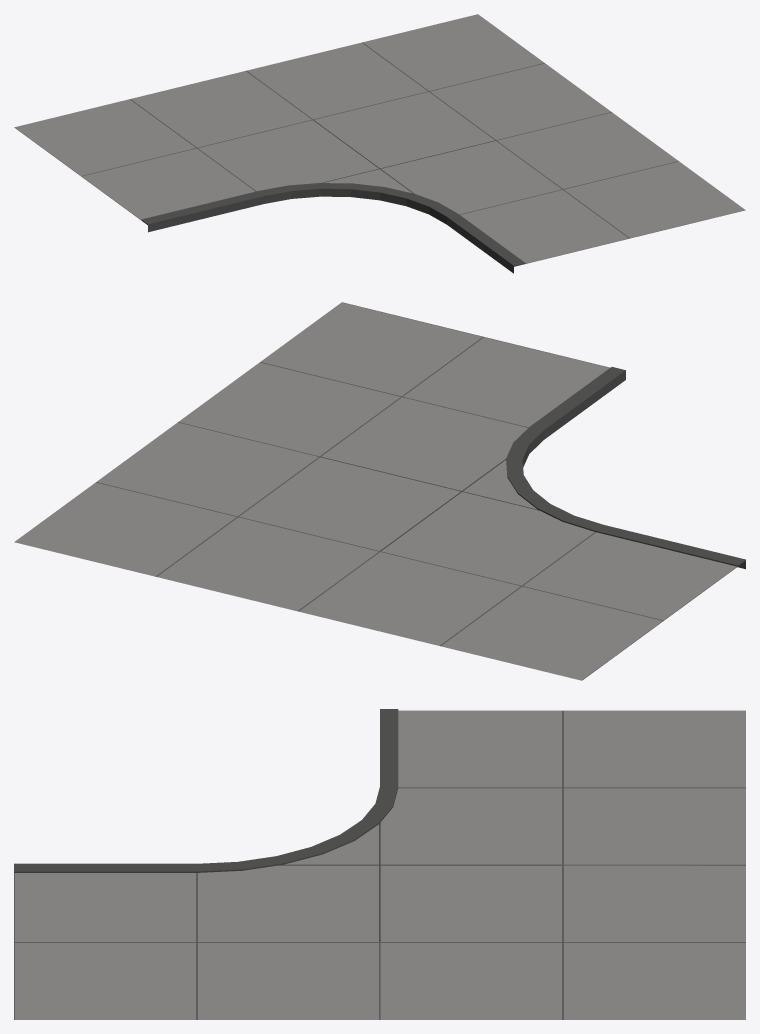
Rendered from M_SideWalk700x700_04.fbx.
The picture shows the model from 3 angles, top to bottom: view 1: azimuth 30°, elevation 25°; view 2: azimuth 150°, elevation 25°; view 3: azimuth 270°, elevation 25°; orthographic projection. The views are drawn at different scales.
Parts seen in each view (by area): view 1: M_SideWalk700x700_04; view 2: M_SideWalk700x700_04; view 3: M_SideWalk700x700_04.
Part boxes in pixels (x1=…): M_SideWalk700x700_04: x1=14, y1=14, x2=745, y2=273; M_SideWalk700x700_04: x1=14, y1=302, x2=745, y2=680; M_SideWalk700x700_04: x1=14, y1=709, x2=745, y2=1019.
Size of what is drawn, in the model's own units: 700 by 700 by 11.5.
